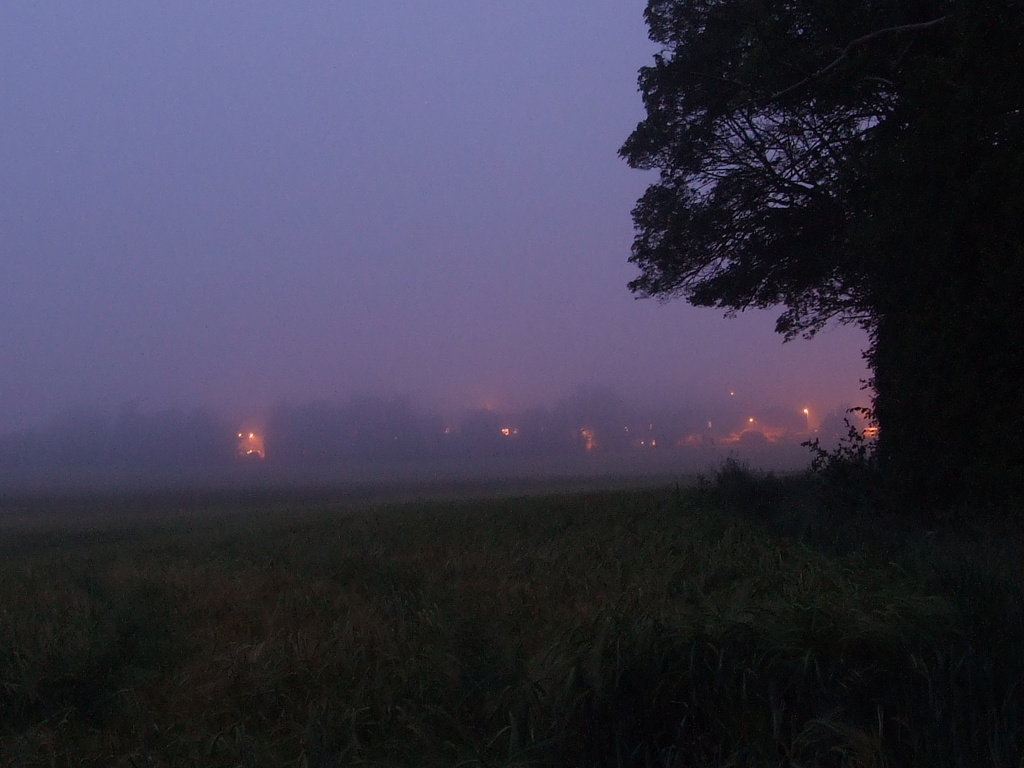Tree: (606, 0, 988, 488)
